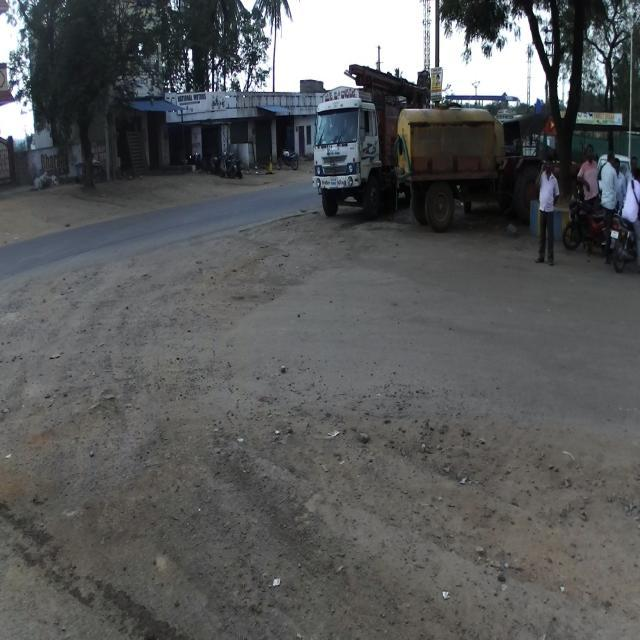Pothole: (2, 355, 640, 637)
